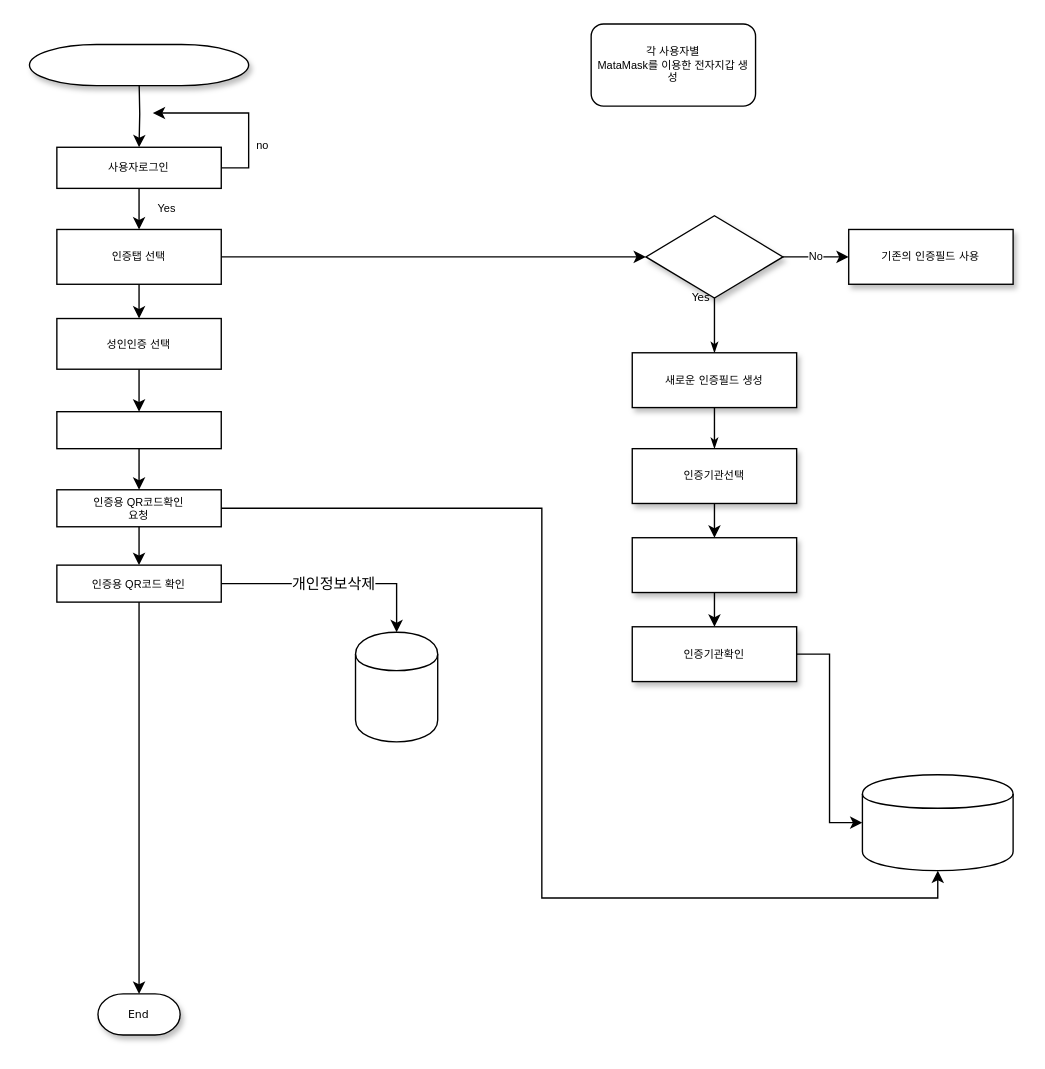
Image size: 1045x1069. Some labels were removed from this diagram. The shapes that lost their labels are listed below. From the top down, each one's centre as x and y in pixels, then its label:
(140,66): 시작
(715,258): 새로운인증필드인가요
(138,429): 인증용 QR코드 생성
(715,566): 인증기관요청
(396,686): 사용자DB
(937,822): BlackChain
